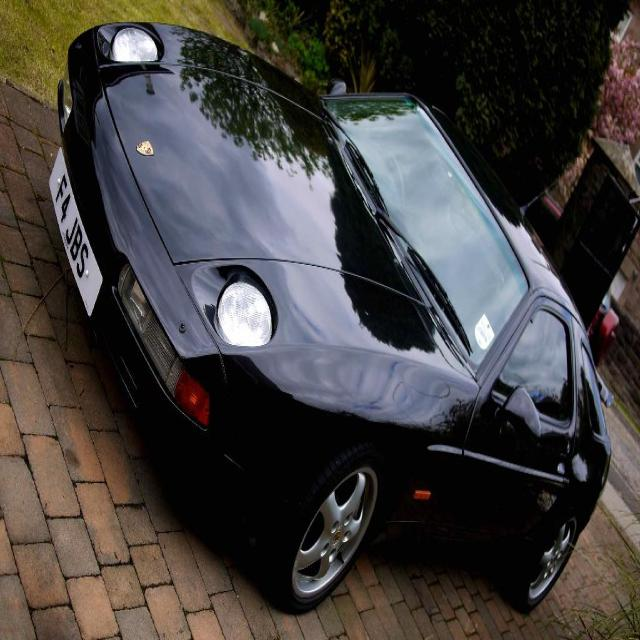car: (47, 21, 612, 615)
